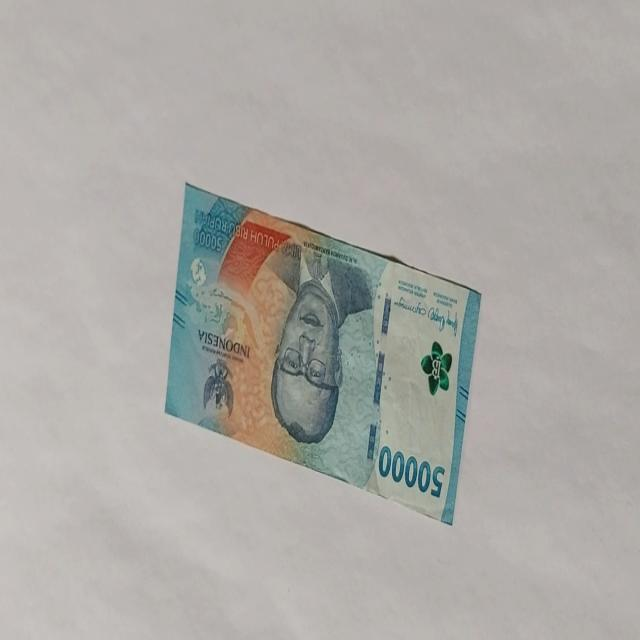lima puluh ribu rupiah: (163, 180, 482, 526)
